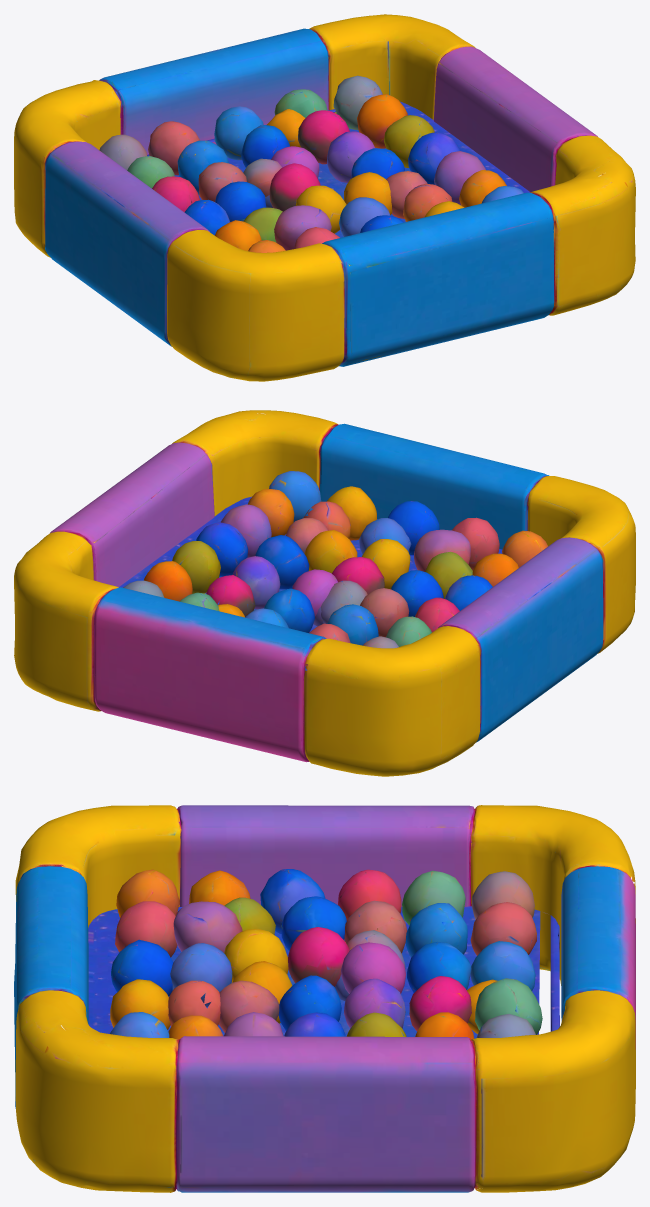
File: ball_pit.glb
3 views of the same model, one above another, from view 1: azimuth 30°, elevation 25°; view 2: azimuth 150°, elevation 25°; view 3: azimuth 270°, elevation 25° (orthographic). The views are drawn at different scales.
Size of what is drawn, in the model's own units: 3.8 by 1 by 3.8.
Materials: 1 (1 with a texture image).
